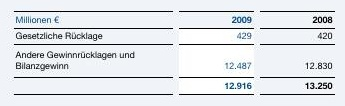table: (0, 0, 345, 106)
